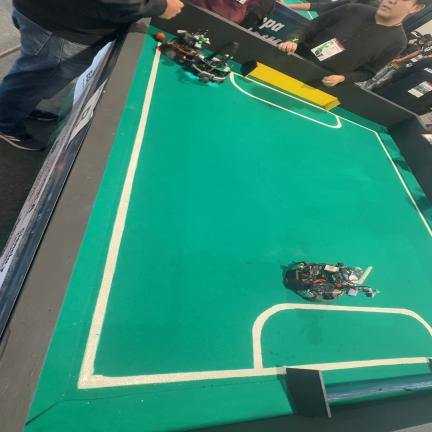cancha: (24, 27, 432, 432)
limites: (77, 50, 432, 389), (342, 117, 432, 237), (230, 72, 342, 129), (245, 78, 324, 111)
pelota: (154, 33, 165, 41)
porteria: (286, 358, 432, 418), (240, 60, 340, 111)
robot: (282, 261, 380, 303), (188, 42, 239, 84), (160, 30, 209, 64)
